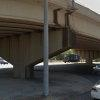Bridge: (5, 0, 100, 72)
